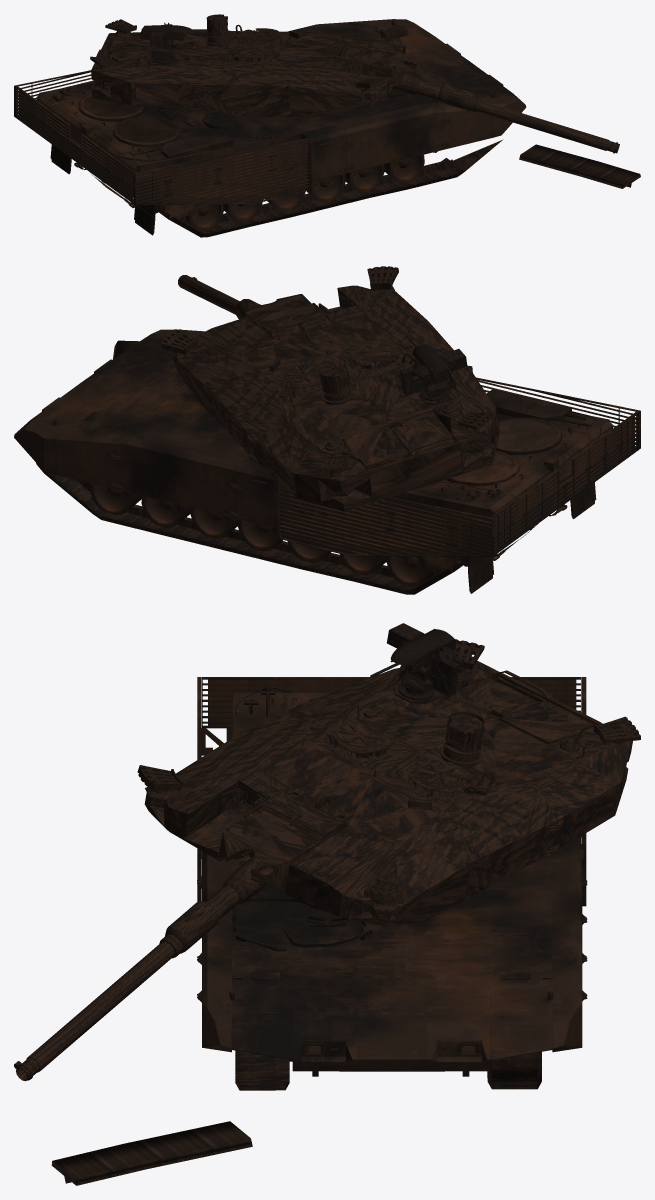
File: leopard_wreck.glb
The picture shows the model from 3 angles, top to bottom: view 1: azimuth 30°, elevation 25°; view 2: azimuth 150°, elevation 25°; view 3: azimuth 270°, elevation 25°; orthographic projection. The views are drawn at different scales.
Parts seen in each view (by area): view 1: leopard, turret, gun, thrown; view 2: leopard, turret, gun; view 3: turret, leopard, gun, thrown.
Part boxes in pixels (<box>): leopard: <box>14,19,526,237</box>; turret: <box>90,14,416,117</box>; gun: <box>393,74,619,153</box>; thrown: <box>519,144,640,188</box>; leopard: <box>14,329,640,594</box>; turret: <box>161,266,499,511</box>; gun: <box>178,275,260,319</box>; turret: <box>137,623,640,925</box>; leopard: <box>197,677,587,1090</box>; gun: <box>14,851,265,1081</box>; thrown: <box>51,1121,252,1185</box>.
Size of the model in its own units: 9.82 by 3.35 by 7.11.
6 materials, 5 textured.
